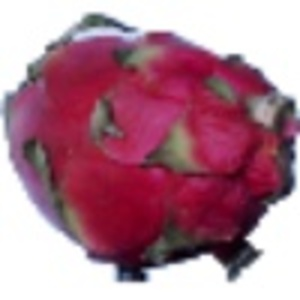pitaia: (1, 12, 300, 285)
